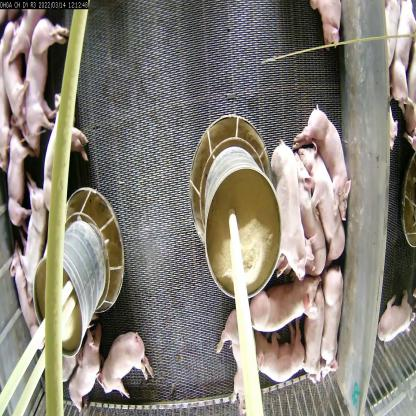Pig: (297, 96, 359, 230), (260, 140, 312, 270), (19, 18, 66, 138), (50, 80, 86, 222), (221, 296, 266, 409), (101, 316, 155, 402), (250, 321, 313, 391), (248, 277, 320, 328), (319, 270, 350, 382), (22, 182, 52, 290), (71, 330, 105, 405), (380, 286, 416, 345)
